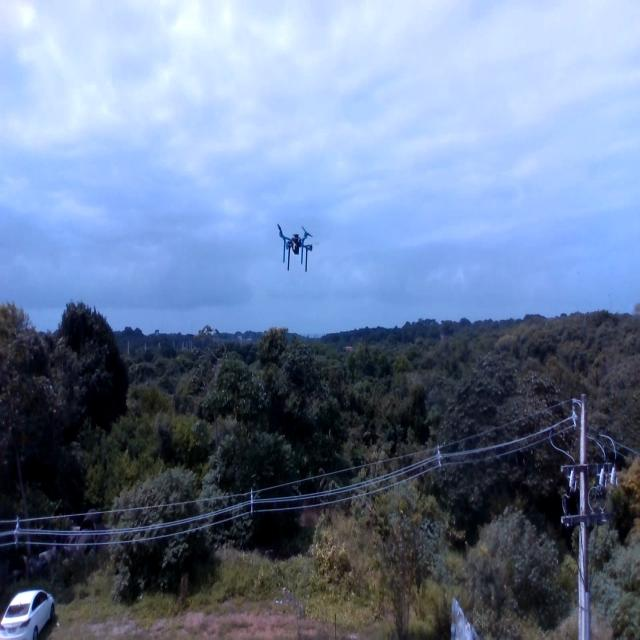-uav-: (270, 215, 317, 282)
